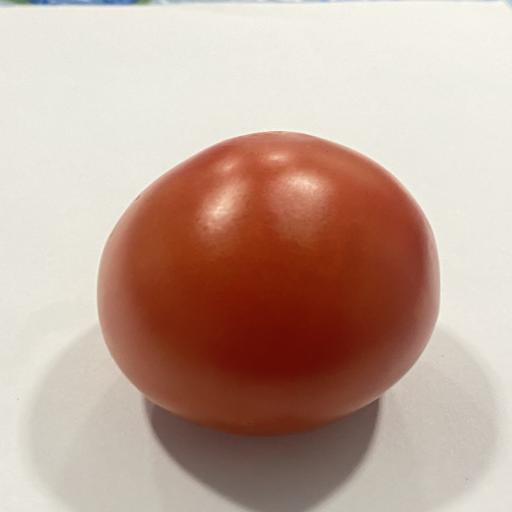ripe: (98, 132, 439, 434)
